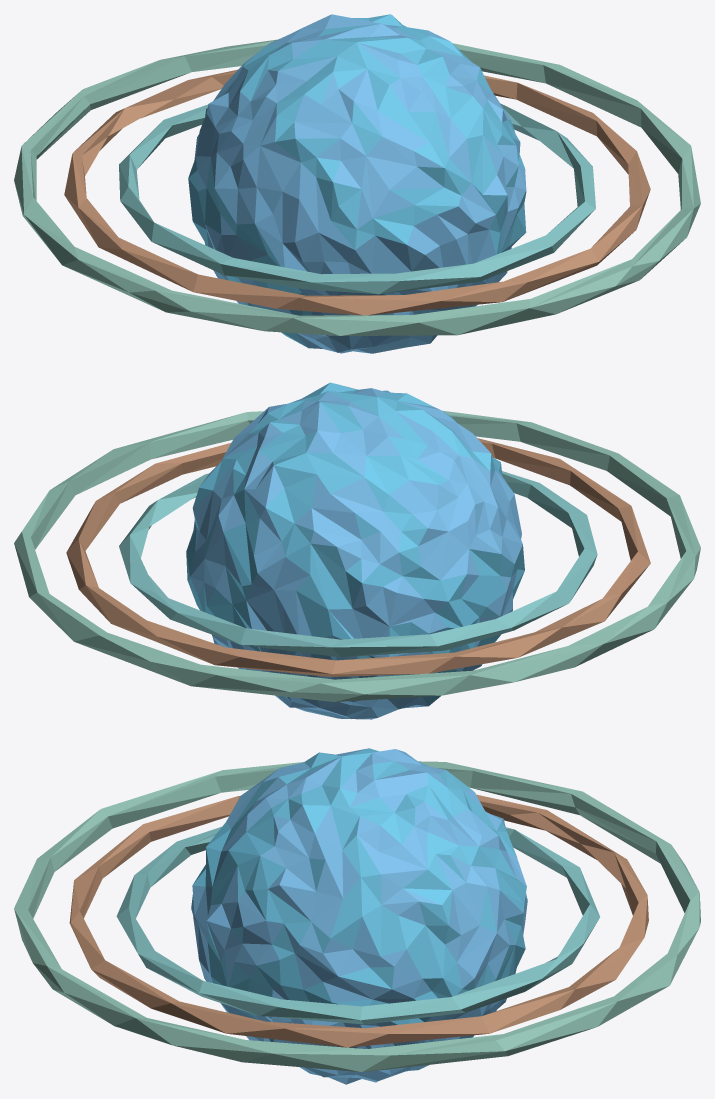
Rendered from Uranus.obj.
3 views of the same model, one above another, from view 1: azimuth 30°, elevation 25°; view 2: azimuth 150°, elevation 25°; view 3: azimuth 270°, elevation 25° (orthographic).
Visible parts, largest first — view 1: Uranus; view 2: Uranus; view 3: Uranus.
Boxes of the visible parts, x1,y1,x2,y2 form: Uranus: [14, 14, 700, 353]; Uranus: [14, 382, 700, 719]; Uranus: [14, 748, 700, 1084].
Size of the model in its own units: 72.79 by 35.97 by 73.15.
